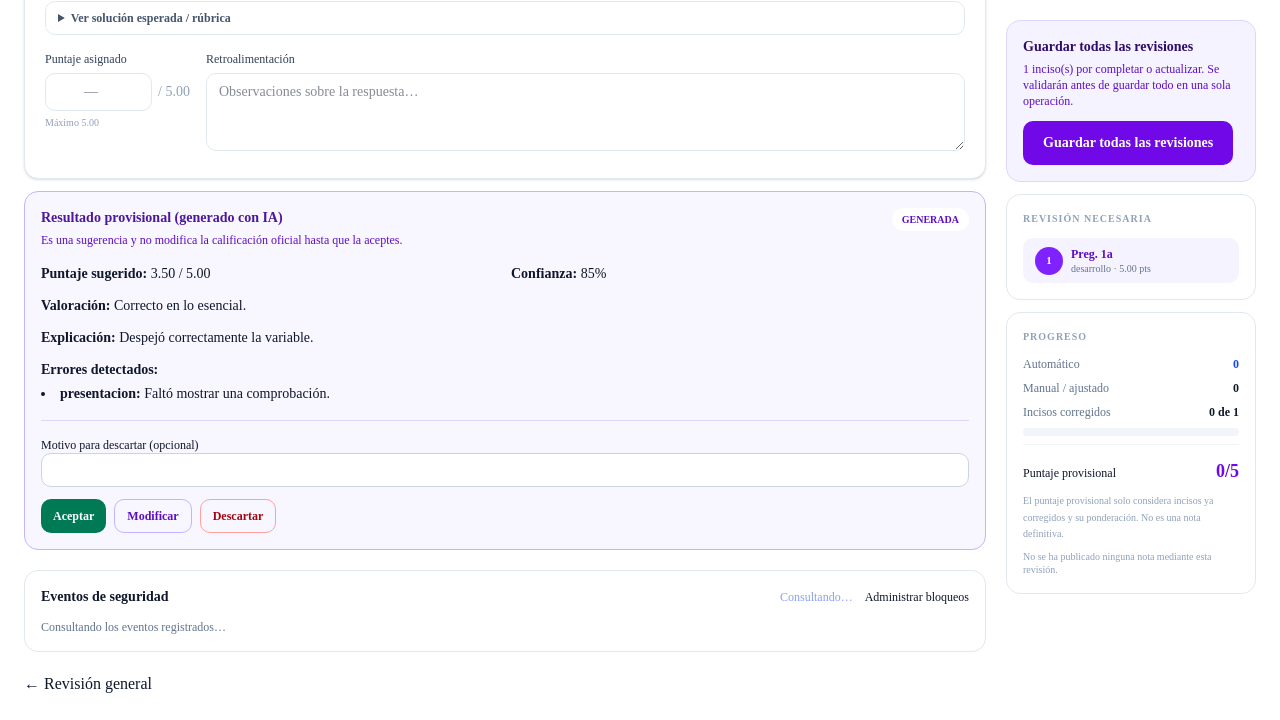
Scenario: RevisionEstudiante — propuestas de corrección IA › permite descartar una propuesta con motivo opcional
(page scrolled)
Type "No corresponde al criterio docente." into the field labelled "Motivo para descartar (opcional)". click: (505, 470)
box: [41,453,969,487]
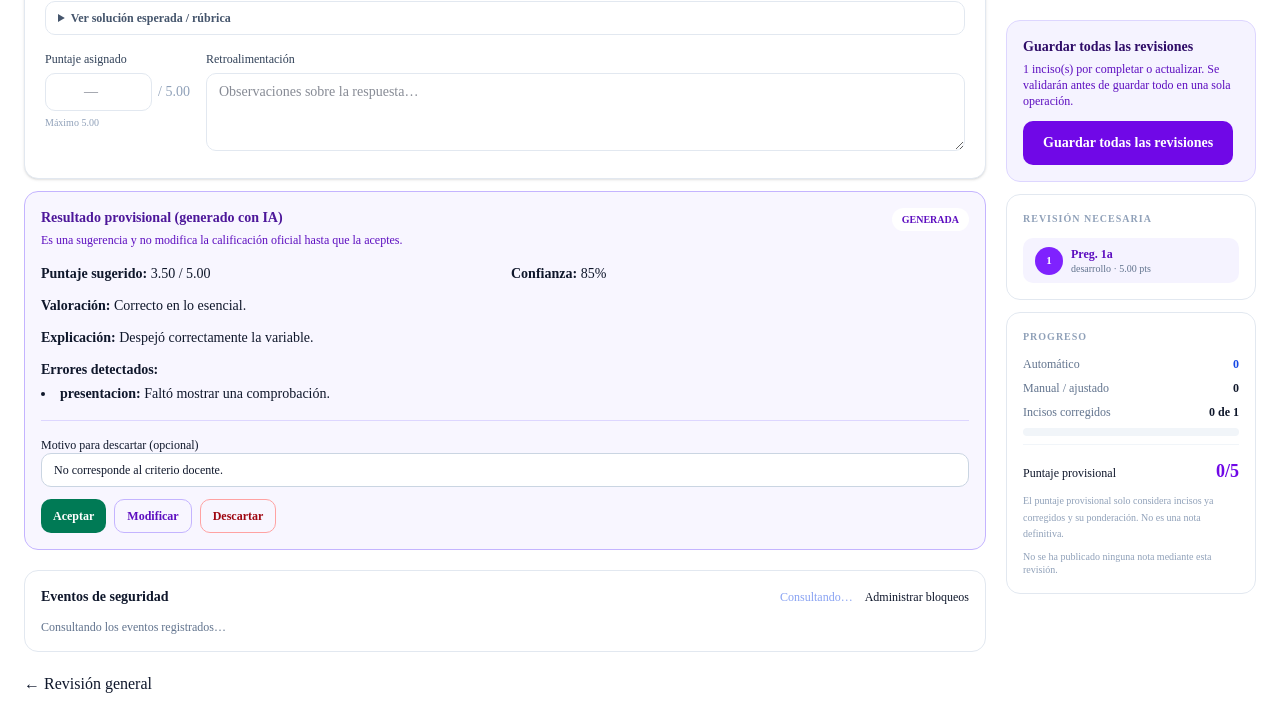
Click the button "Descartar". click: click(238, 516)
box: [200,499,276,533]
(page scrolled)
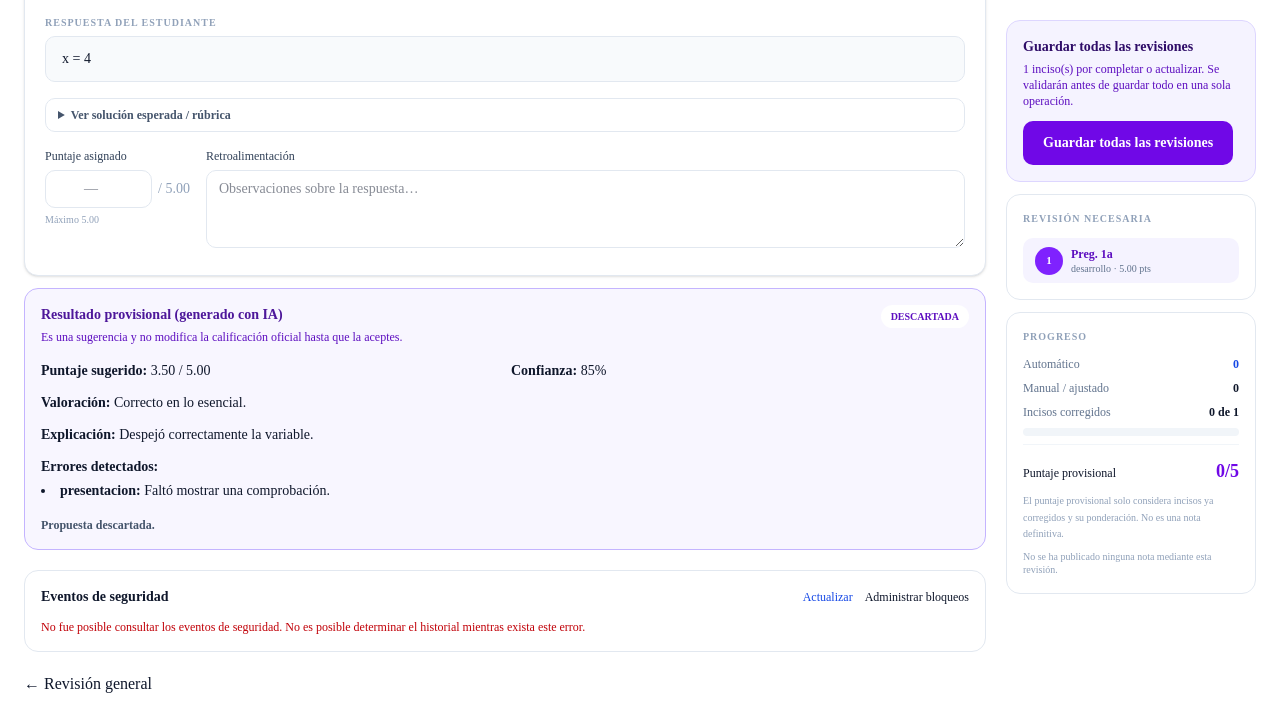
Expected: the text "Propuesta descartada." is shown, [41,518,155,532]
